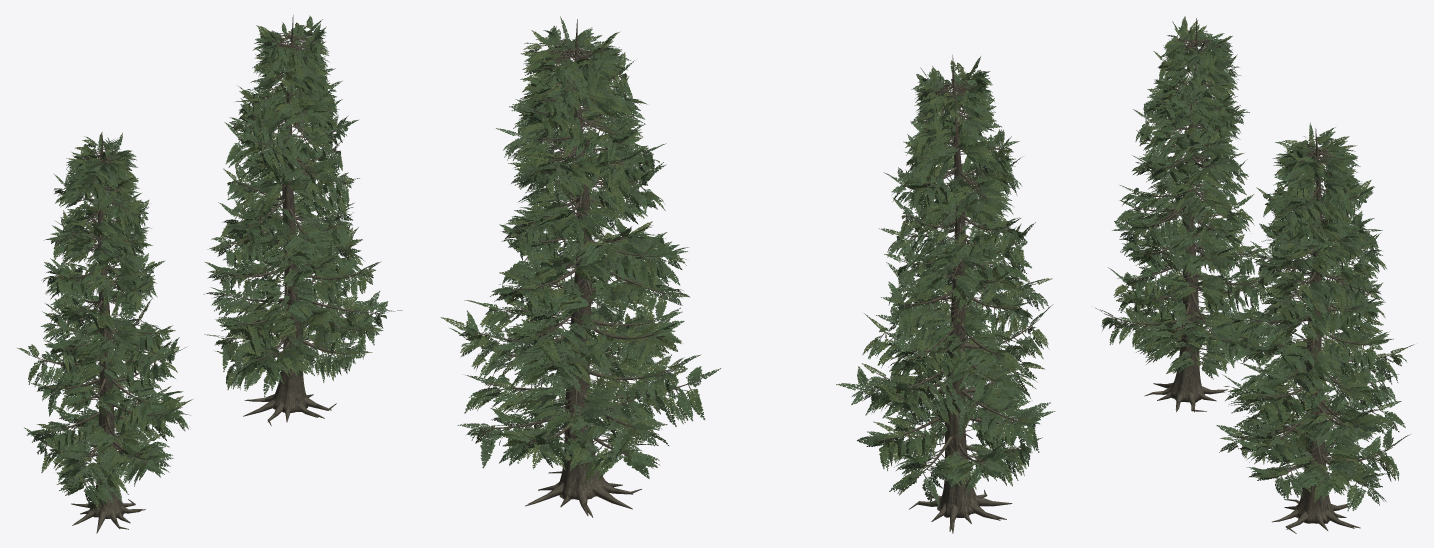
Rendered from FOREST_Trees_Near.fbx.
3 renders of one model, left to right at view 1: azimuth 30°, elevation 25°; view 2: azimuth 150°, elevation 25°; view 3: azimuth 270°, elevation 25°, orthographic. The views are drawn at different scales.
Parts seen in each view (by area): view 1: FOREST_Trees_Near; view 2: FOREST_Trees_Near; view 3: FOREST_Trees_Near.
Part boxes in pixels (x1=…): FOREST_Trees_Near: x1=17, y1=15, x2=402, y2=533; FOREST_Trees_Near: x1=440, y1=16, x2=1055, y2=533; FOREST_Trees_Near: x1=1095, y1=16, x2=1413, y2=533.
Size of the model in its own units: 13.87 by 12.45 by 9.56.
